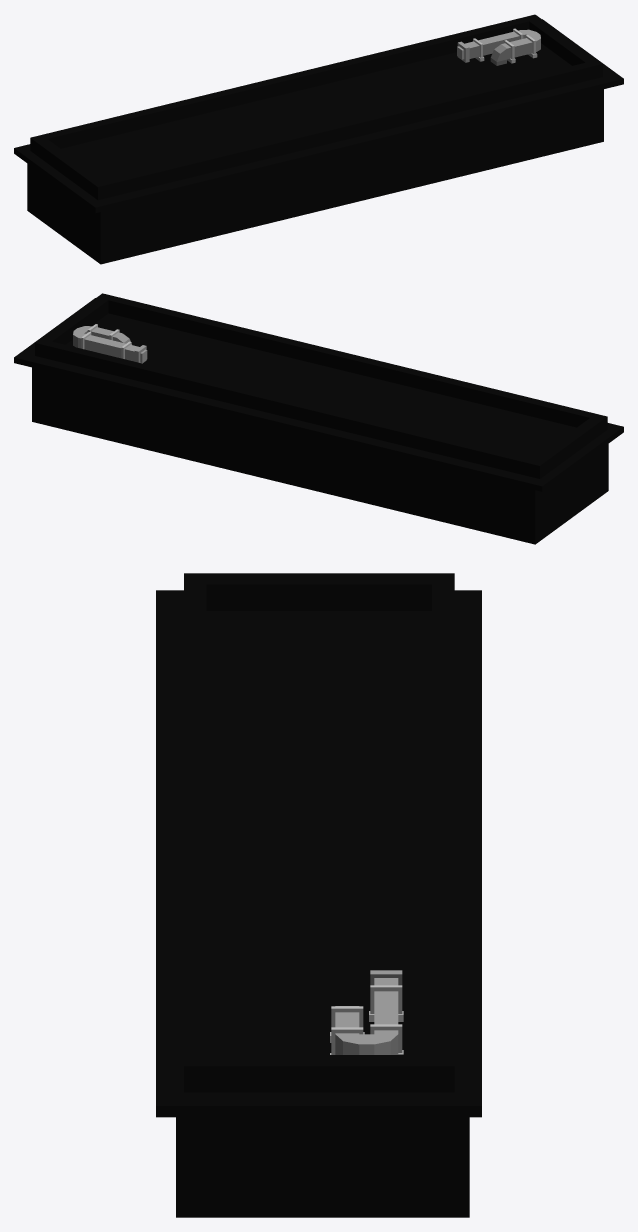
Rendered from SA_Bld_Motel_SideBuilding_01.gltf.
3 views of the same model, one above another, from view 1: azimuth 30°, elevation 25°; view 2: azimuth 150°, elevation 25°; view 3: azimuth 270°, elevation 25° (orthographic). The views are drawn at different scales.
Parts seen in each view (by area): view 1: SA_Bld_Motel_SideBuilding_01; view 2: SA_Bld_Motel_SideBuilding_01; view 3: SA_Bld_Motel_SideBuilding_01.
Part boxes in pixels (x1=…): SA_Bld_Motel_SideBuilding_01: x1=14, y1=14, x2=623, y2=264; SA_Bld_Motel_SideBuilding_01: x1=14, y1=293, x2=623, y2=544; SA_Bld_Motel_SideBuilding_01: x1=156, y1=573, x2=481, y2=1217.
Bounding box in the file's own units: 37.07 × 5.34 × 9.9.
Materials: 1 (1 with a texture image).
